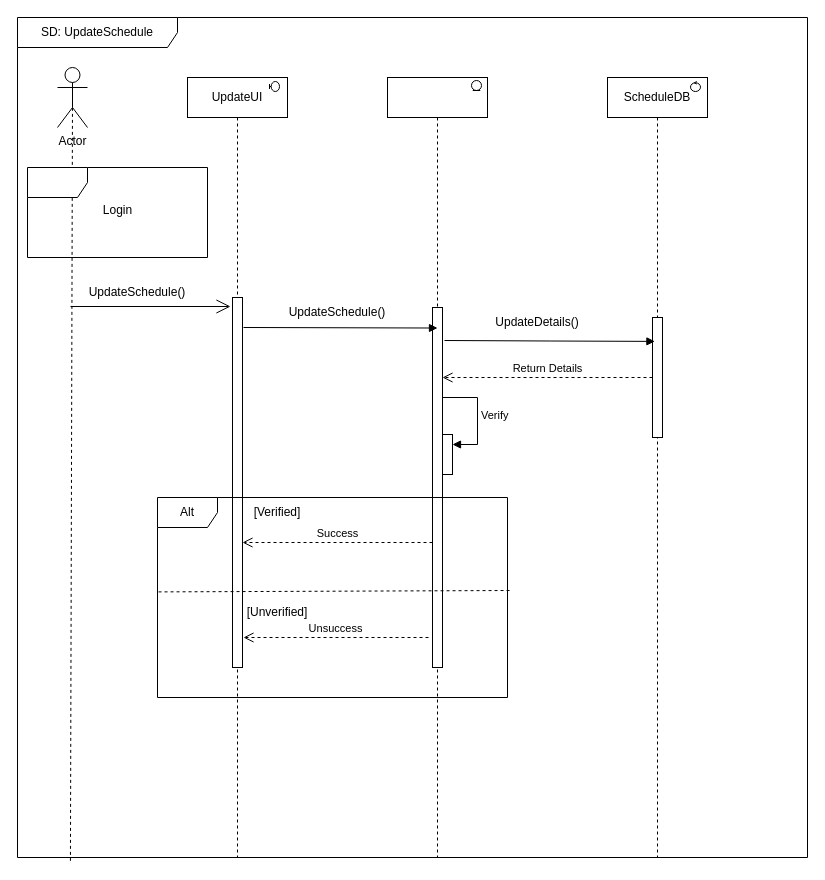
The diagram is 825 pixels wide and 880 high, and some of its shapes have lost their labels. The shapes that lost their labels are listed below. From the top down, each one's box as (x1, y1, x2, y2) in pixels, then its label:
(26, 166, 208, 258): Ref
(386, 76, 488, 858): UpdateController
